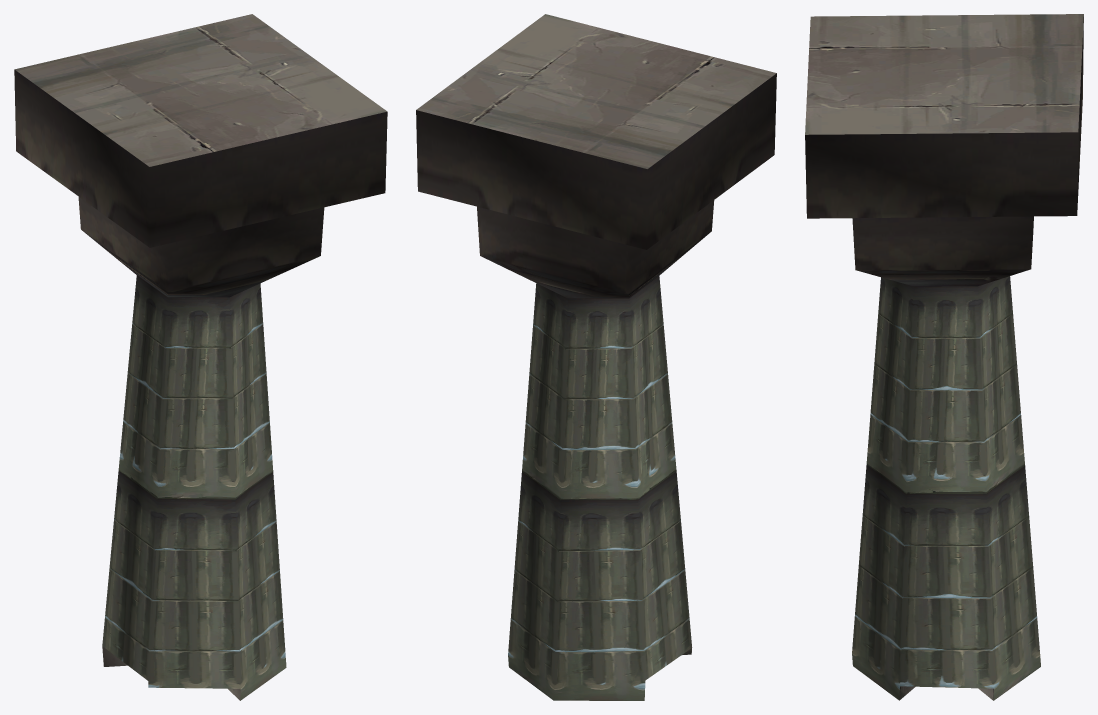
File: ti_roadcolumnbroken.obj
The picture shows the model from 3 angles, left to right: view 1: azimuth 30°, elevation 25°; view 2: azimuth 150°, elevation 25°; view 3: azimuth 270°, elevation 25°; orthographic projection. The views are drawn at different scales.
Parts seen in each view (by area): view 1: Geoset2, Geoset0, Geoset1; view 2: Geoset2, Geoset0, Geoset1; view 3: Geoset2, Geoset0, Geoset1.
Boxes of the visible parts, x1,y1,x2,y2 form: Geoset2: (102, 275, 286, 700); Geoset0: (14, 69, 387, 297); Geoset1: (14, 14, 386, 700); Geoset2: (508, 276, 691, 700); Geoset0: (416, 73, 776, 298); Geoset1: (416, 14, 776, 654); Geoset2: (852, 276, 1040, 700); Geoset0: (805, 17, 1083, 286); Geoset1: (805, 14, 1083, 700).
Bounding box in the file's own units: 16.11 × 37.36 × 15.87.
Materials: 3 (3 with a texture image).
